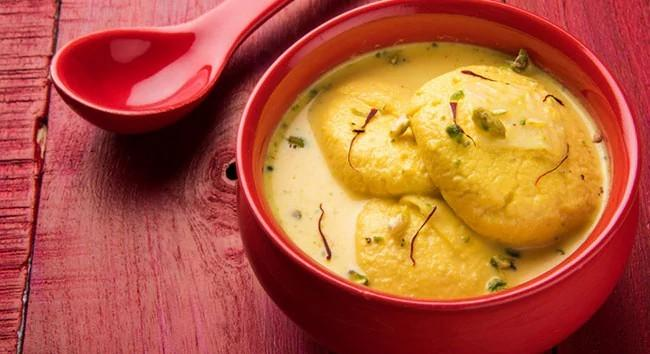RasMalai: (256, 42, 609, 298)
